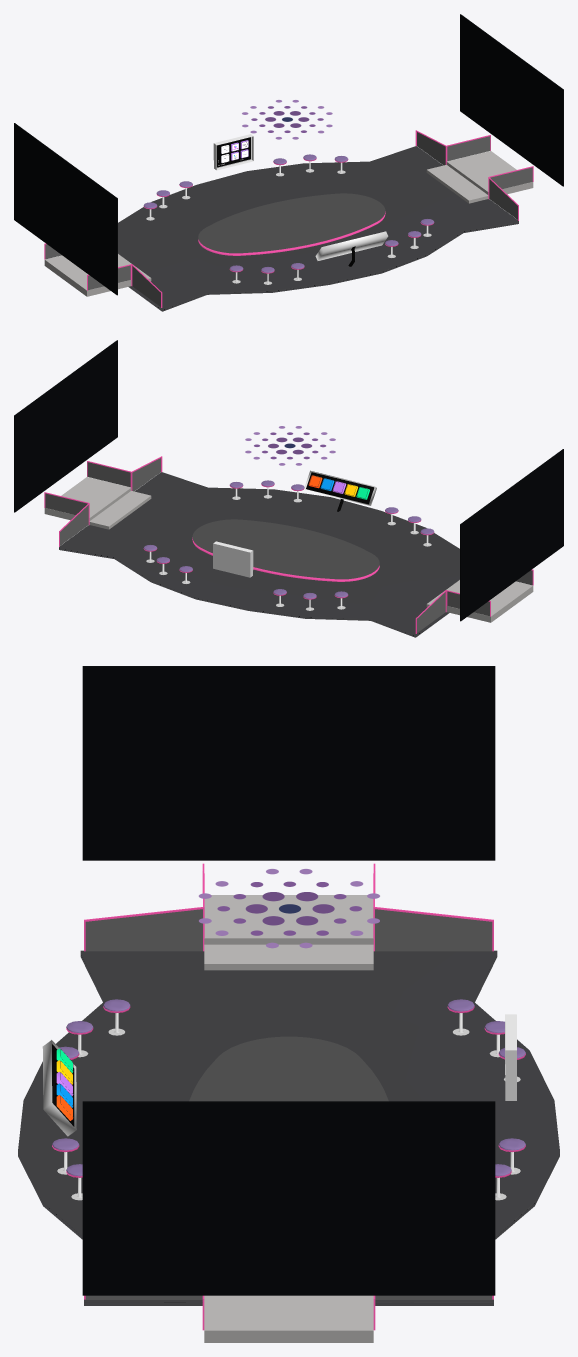
The model's file is partyMode6.glb.
The picture shows the model from 3 angles, top to bottom: view 1: azimuth 30°, elevation 25°; view 2: azimuth 150°, elevation 25°; view 3: azimuth 270°, elevation 25°; orthographic projection. The views are drawn at different scales.
Visible parts, largest first — view 1: p05_floor_001.001, p05_tv_002.001, p05_tv_001.002, p05_glass_floor.002, p05_stairs_001.001, p05_railing_001.002, p05_railing_002.002, p05_bar_chair_001.001, p05_Ringbuttons.001, p05_logo_MRCgroup_001.001, p04_buttons_party, p05_bar_chair_002.001 (+1 smaller); view 2: p05_floor_001.001, p05_tv_002.001, p05_tv_001.002, p05_glass_floor.002, p05_stairs_001.001, p05_railing_001.002, p05_railing_002.002, p05_buttons.002, p03_buttons_02.002, p05_bar_chair_001.001, p05_logo_MRCgroup_001.001, p05_bar_chair_002.001 (+1 smaller); view 3: p05_tv_002.001, p05_tv_001.002, p05_floor_001.001, p05_stairs_001.001, p05_glass_floor.002, p05_railing_002.002, p05_logo_MRCgroup_001.001, p05_bar_chair_001.001, p05_buttons.002, p05_Ringbuttons.001, p05_bar_chair_002.001, p04_buttons_party01 (+1 smaller).
Boxes of the visible parts, <box> form: p05_floor_001.001: <box>118,146,518,311</box>; p05_tv_002.001: <box>460,14,563,186</box>; p05_tv_001.002: <box>14,123,117,295</box>; p05_glass_floor.002: <box>198,193,385,255</box>; p05_stairs_001.001: <box>44,151,533,296</box>; p05_railing_001.002: <box>45,136,532,290</box>; p05_railing_002.002: <box>132,132,517,306</box>; p05_bar_chair_001.001: <box>143,154,434,273</box>; p05_Ringbuttons.001: <box>315,231,388,260</box>; p05_logo_MRCgroup_001.001: <box>242,100,332,139</box>; p04_buttons_party: <box>217,137,250,167</box>; p05_bar_chair_002.001: <box>146,161,431,284</box>; p05_floor_001.001: <box>59,472,459,637</box>; p05_tv_002.001: <box>14,340,117,512</box>; p05_tv_001.002: <box>460,449,563,621</box>; p05_glass_floor.002: <box>192,519,379,581</box>; p05_stairs_001.001: <box>44,477,533,622</box>; p05_railing_001.002: <box>45,462,532,616</box>; p05_railing_002.002: <box>60,458,445,632</box>; p05_buttons.002: <box>306,472,374,511</box>; p03_buttons_02.002: <box>213,544,253,577</box>; p05_bar_chair_001.001: <box>143,480,434,599</box>; p05_logo_MRCgroup_001.001: <box>245,426,335,465</box>; p05_bar_chair_002.001: <box>146,487,431,610</box>; p05_tv_002.001: <box>82,1101,495,1295</box>; p05_tv_001.002: <box>82,666,495,860</box>; p05_floor_001.001: <box>18,950,559,1305</box>; p05_stairs_001.001: <box>204,895,373,1342</box>; p05_glass_floor.002: <box>189,1036,388,1101</box>; p05_railing_002.002: <box>85,909,492,1299</box>; p05_logo_MRCgroup_001.001: <box>198,869,379,948</box>; p05_bar_chair_001.001: <box>52,999,525,1177</box>; p05_buttons.002: <box>52,1044,74,1126</box>; p05_Ringbuttons.001: <box>42,1040,76,1136</box>; p05_bar_chair_002.001: <box>57,1013,520,1200</box>; p04_buttons_party01: <box>505,1014,516,1100</box>.
Size of what is drawn, in the model's own units: 28.14 by 7.44 by 14.78.
Materials: 8 (8 with a texture image).
